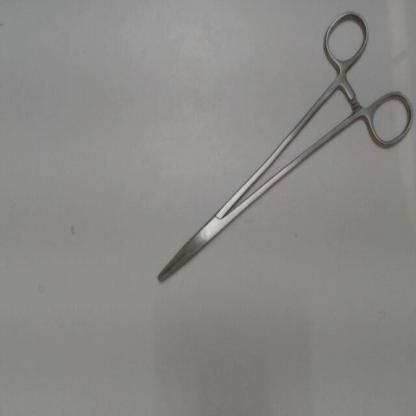8 Mayo Needle Holder: (143, 3, 415, 301)
